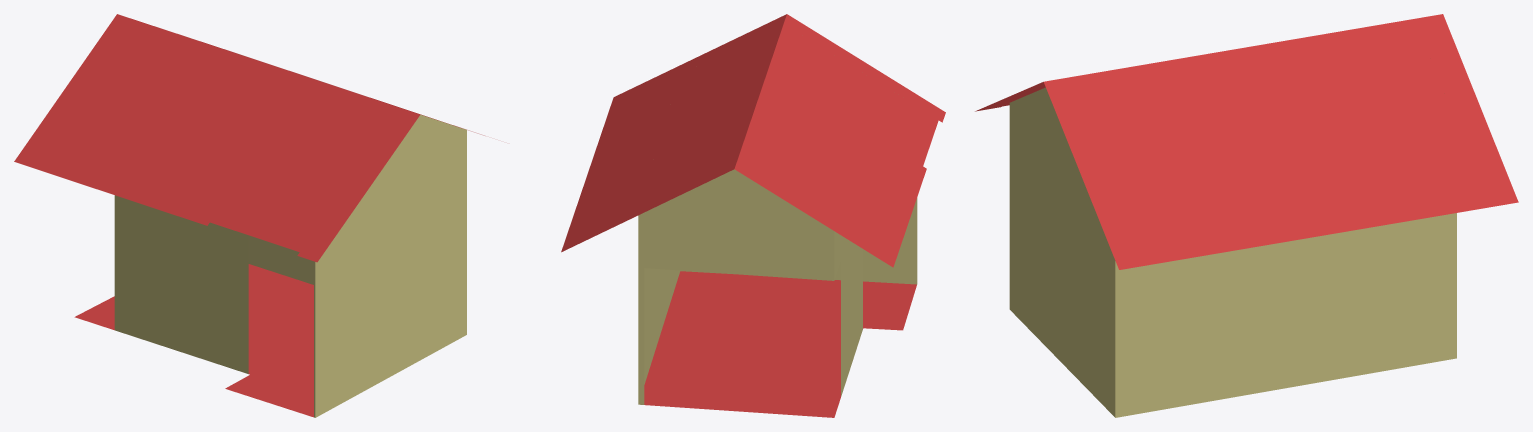
3 views of the same model, side by side, from view 1: azimuth 30°, elevation 25°; view 2: azimuth 150°, elevation 25°; view 3: azimuth 270°, elevation 25° (orthographic). The views are drawn at different scales.
Size of the model in its own units: 18.27 by 19.07 by 11.34.
